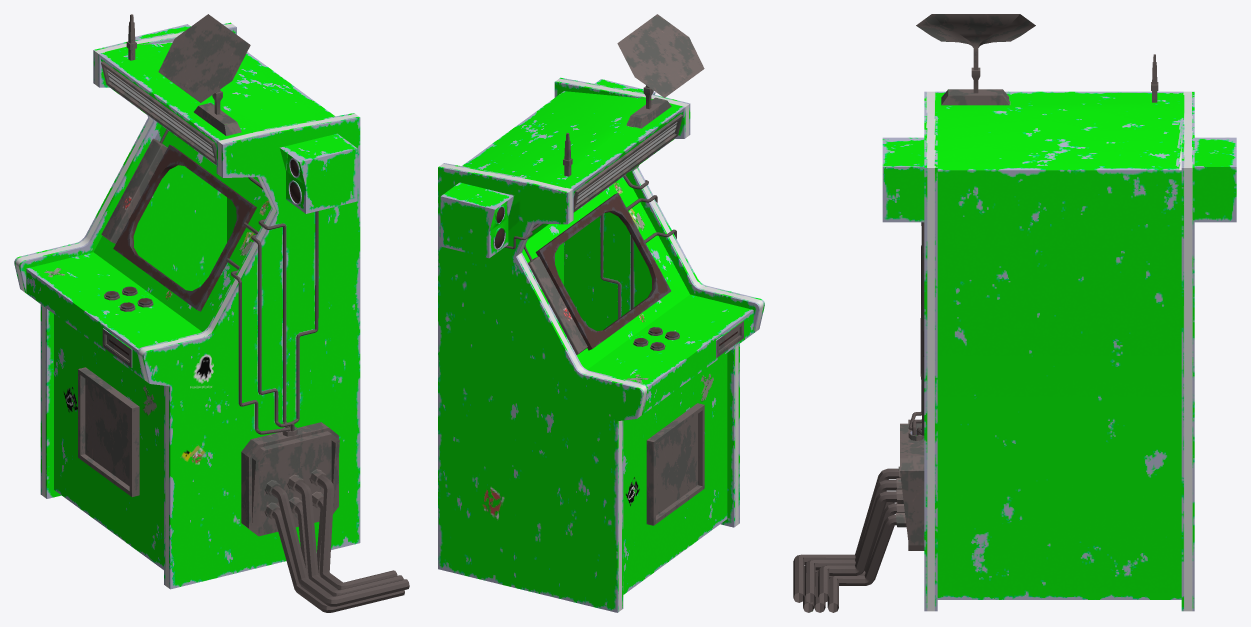
File: Arcade2.fbx
3 renders of one model, left to right at view 1: azimuth 30°, elevation 25°; view 2: azimuth 150°, elevation 25°; view 3: azimuth 270°, elevation 25°, orthographic. The views are drawn at different scales.
Visible parts, largest first — view 1: Arcade; view 2: Arcade; view 3: Arcade.
Part boxes in pixels (x1,y1,x2,y2): Arcade: [14, 14, 409, 612]; Arcade: [438, 14, 764, 612]; Arcade: [793, 14, 1236, 612].
Size of the model in its own units: 547 by 1278 by 930.
